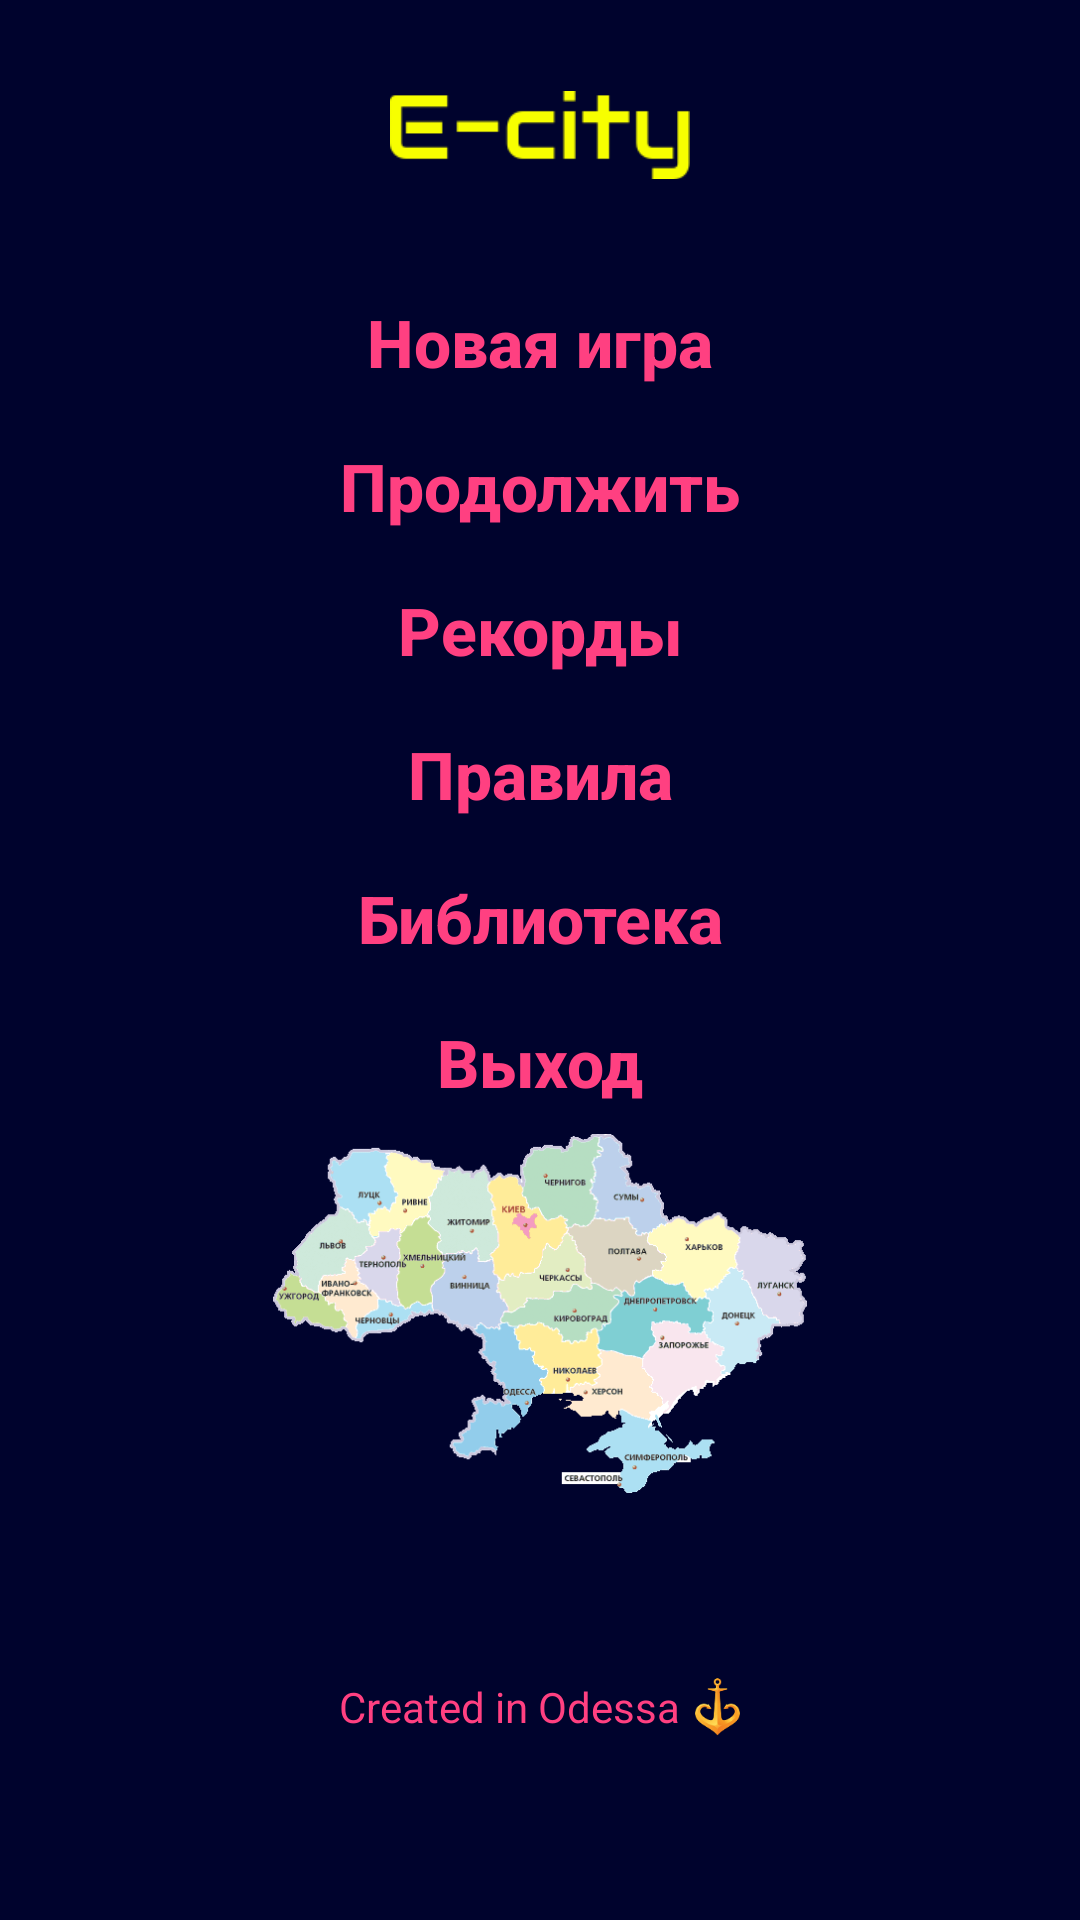

Locate icon controls on the screen. Image size 1080 × 1920, boxes as (x1,y1,x2,y2).
anchor: (695,1678,740,1735)
